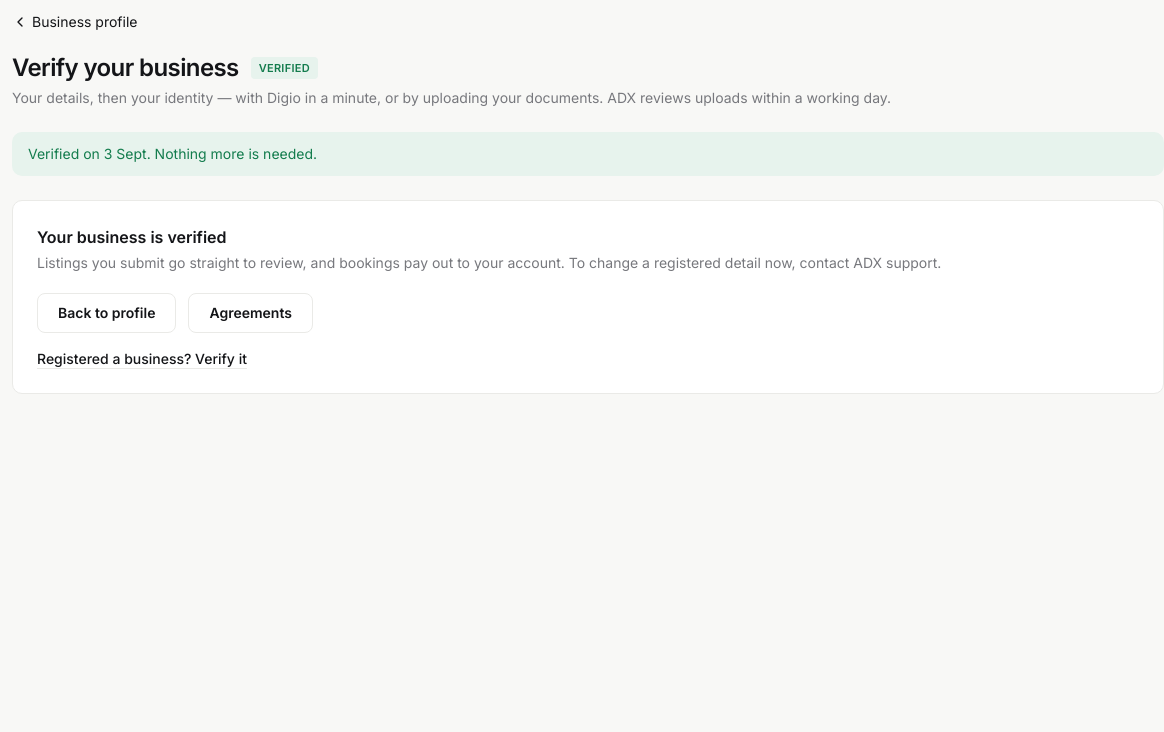
Scenario: the upgrade door › is a quiet link for a verified Individual: the picker without Individual, the warning, then the usual wait
Expected: the heading "Your business is verified" is shown, [37,227,226,247]
Click the button "Registered a business? Verify it". click: (142, 359)
box: [37,349,247,369]
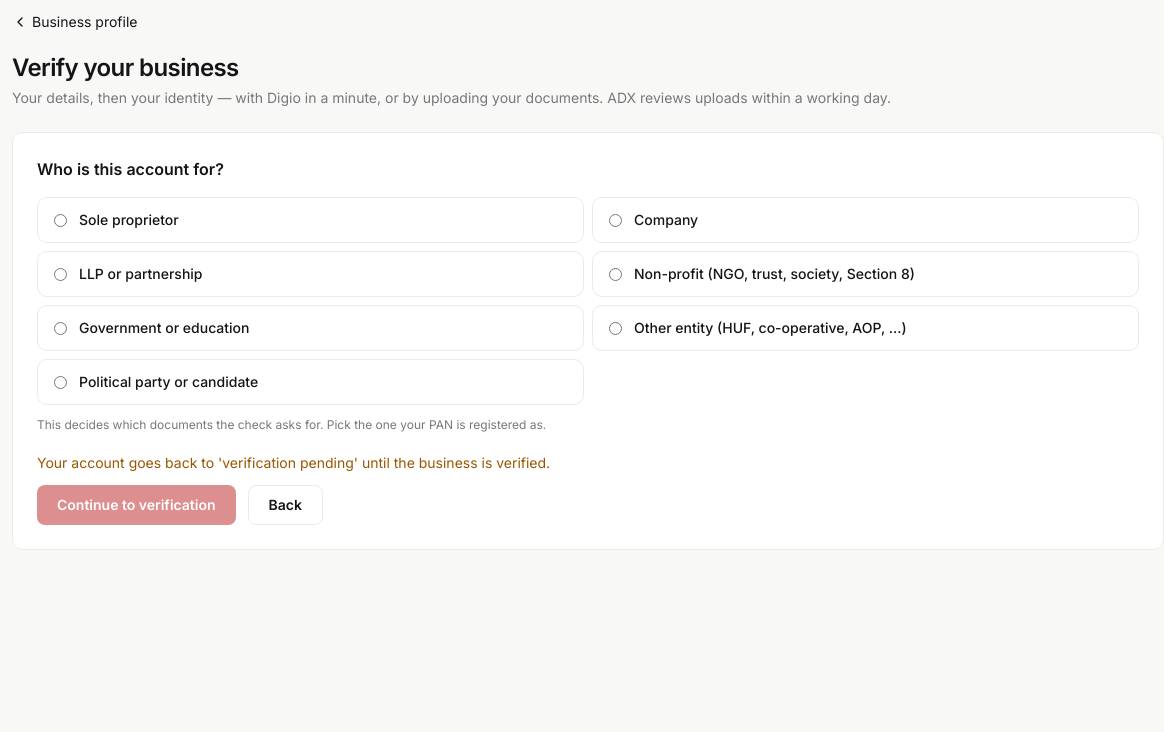
Expected: the element "Who is this account for?" is shown, [37,157,1139,405]
Expected: the number of radio buttons is 7
Expected: the text "Your account goes back to 'verification pending' until the business is verified." is shown, [37,454,550,471]
Click the radio button labelled "Company". click: (616, 220)
box: [609,214,622,226]
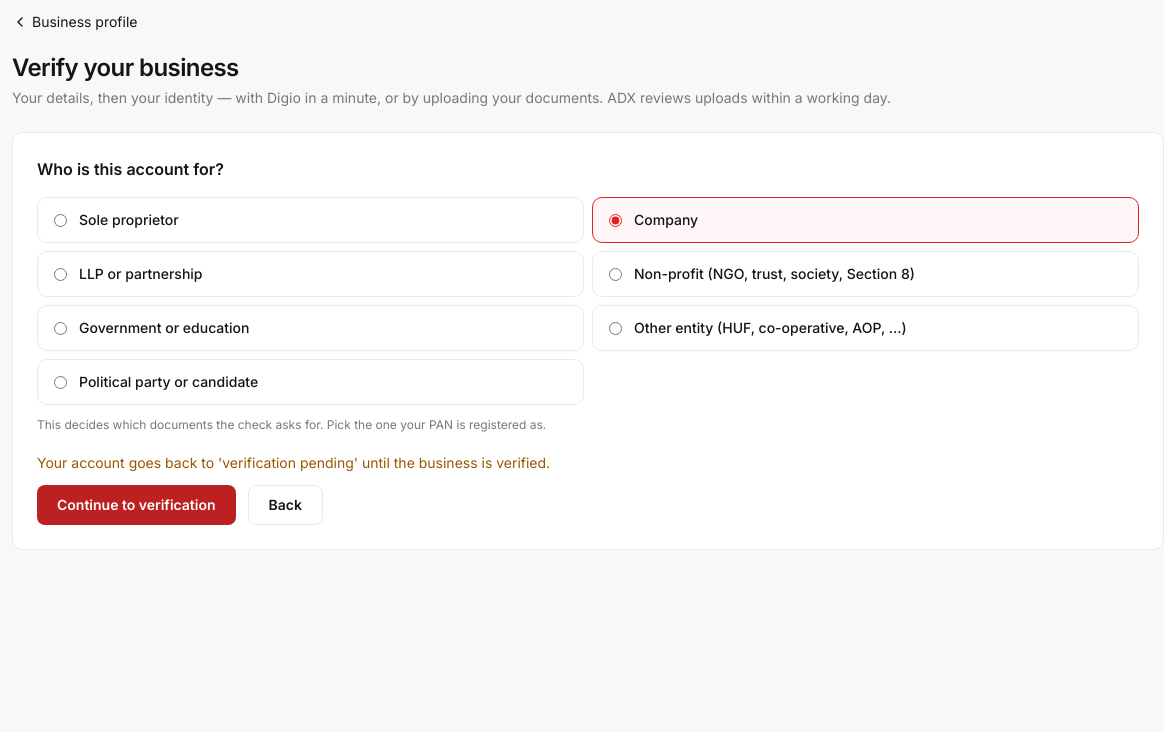
Click the button "Continue to verification". click: (136, 505)
box: [37,485,236,525]
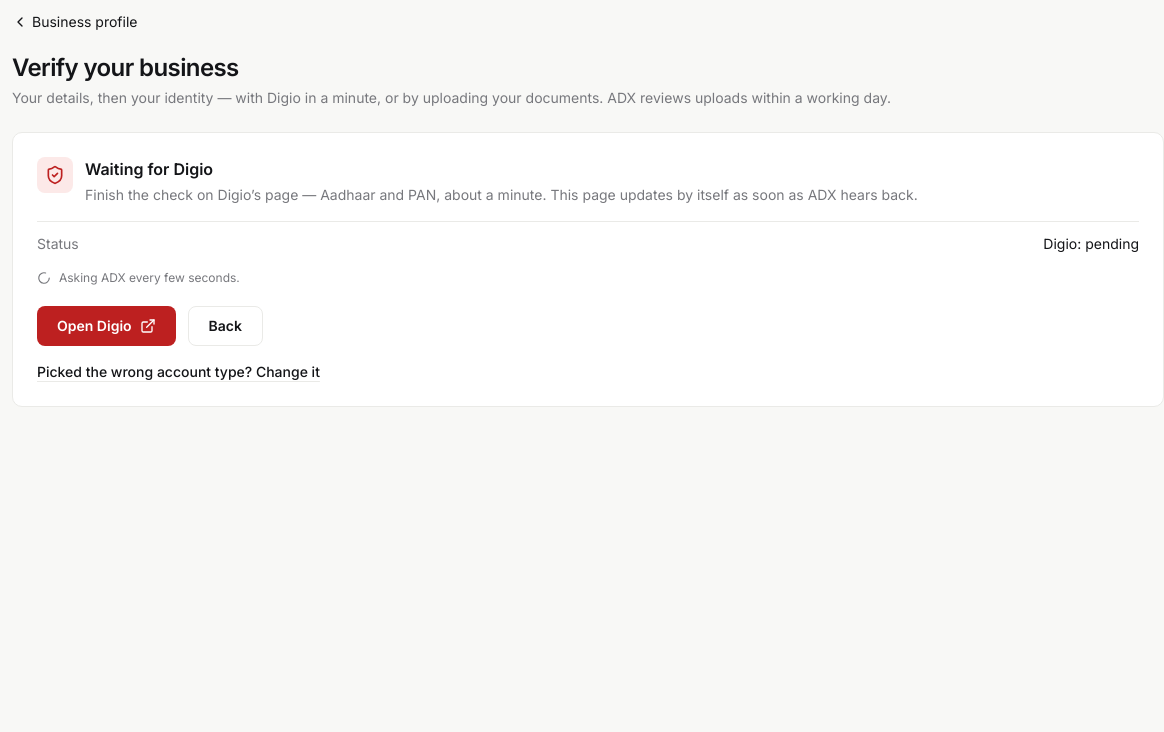
Expected: the heading "Waiting for Digio" is shown, [85,159,213,179]
Expected: the text "Asking ADX every few seconds." is shown, [37,270,240,285]
